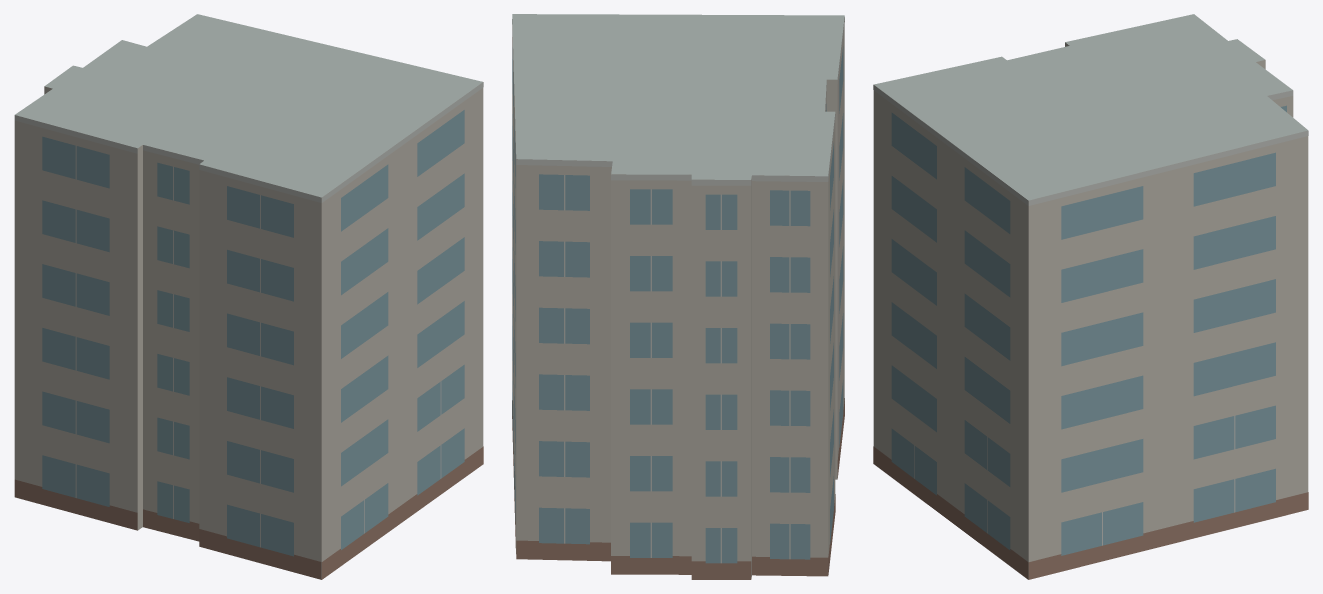
File: survey-upis-32666838.glb
3 views of the same model, side by side, from view 1: azimuth 30°, elevation 25°; view 2: azimuth 150°, elevation 25°; view 3: azimuth 270°, elevation 25° (orthographic). The views are drawn at different scales.
Parts seen in each view (by area): view 1: survey-upis-32666838.tmp; view 2: survey-upis-32666838.tmp; view 3: survey-upis-32666838.tmp.
Boxes of the visible parts, x1,y1,x2,y2 form: survey-upis-32666838.tmp: [14, 14, 483, 579]; survey-upis-32666838.tmp: [512, 14, 844, 579]; survey-upis-32666838.tmp: [873, 14, 1308, 579].
Size of the model in its own units: 17.73 by 16.8 by 17.47.
